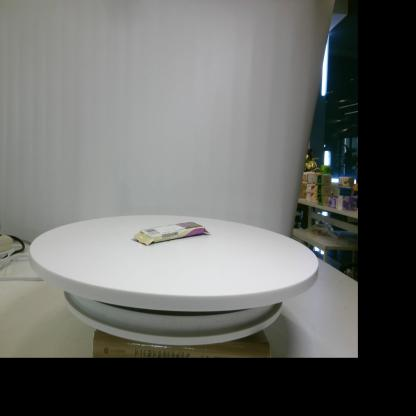Chocolate: (132, 222, 212, 246)
